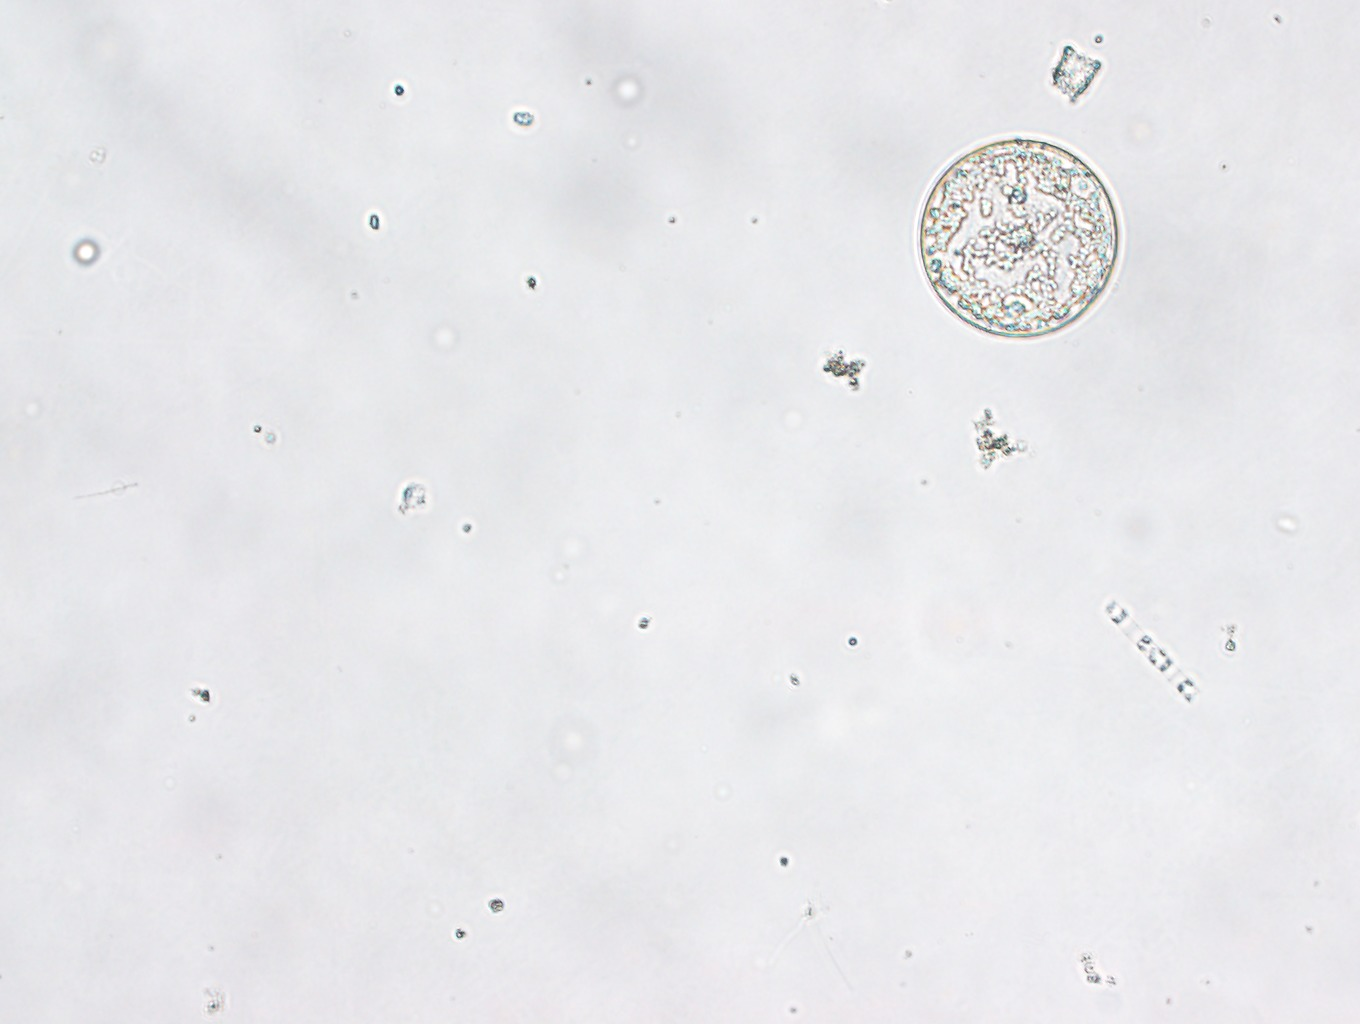coscinodiscus: (916, 134, 1123, 342)
skeletonema: (1100, 598, 1206, 709)
